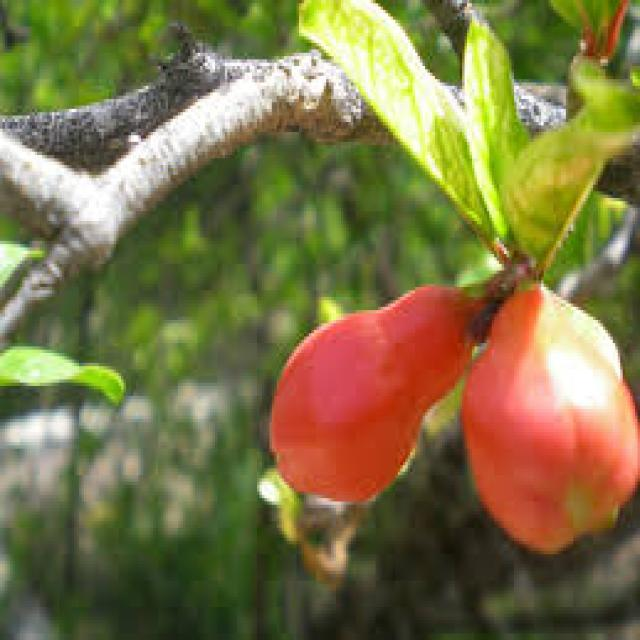organic waste: (260, 267, 504, 495), (462, 270, 638, 551)
